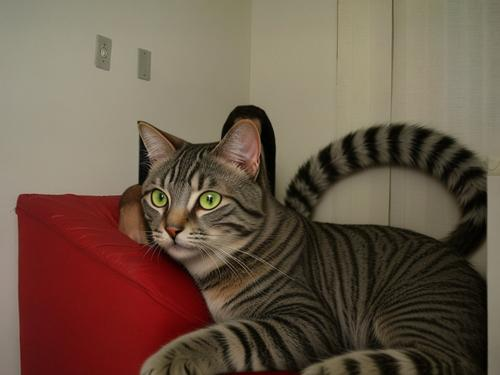cat: (138, 121, 487, 375)
chair: (12, 190, 394, 375)
person: (114, 100, 485, 375)
person/foot: (416, 234, 484, 283)
person/hand: (118, 206, 160, 255)
person/head: (222, 108, 279, 180)
